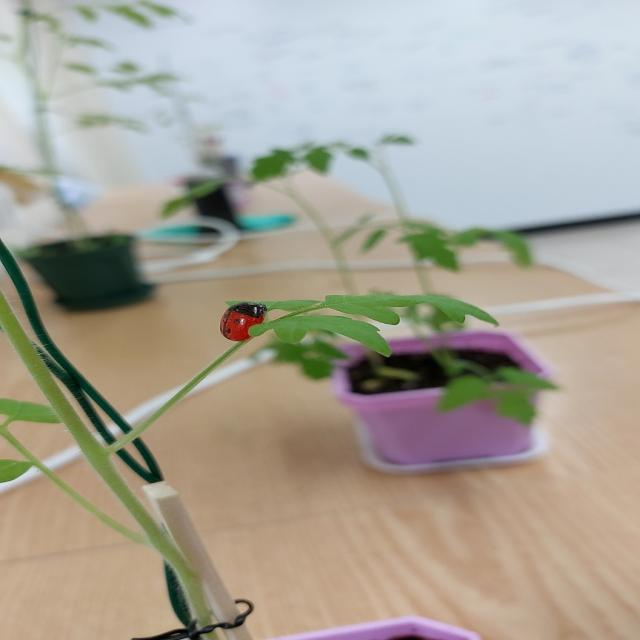bug: (205, 288, 277, 349)
